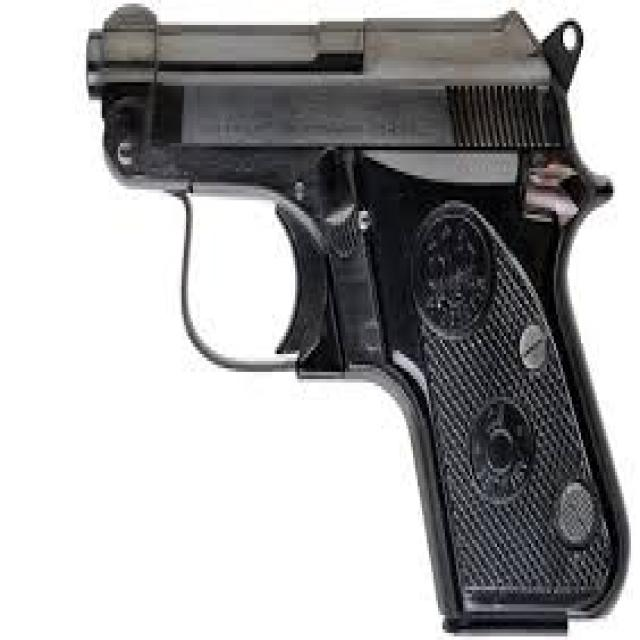pistol: (82, 1, 633, 640)
